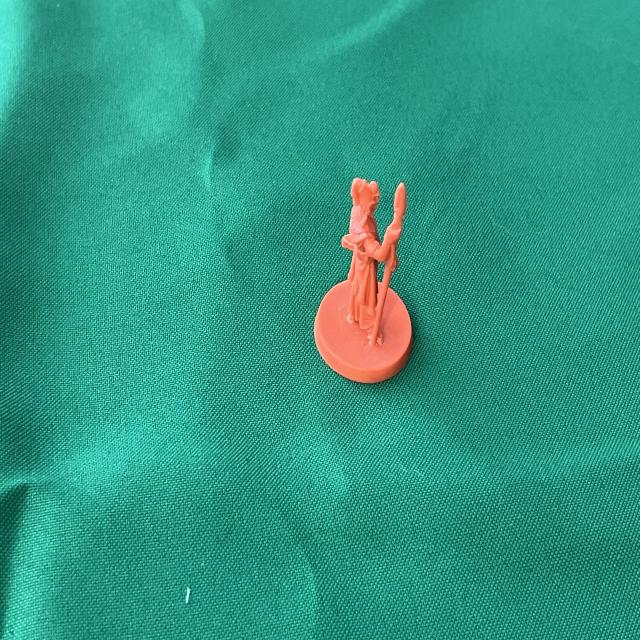amon_follower: (315, 178, 412, 383)
